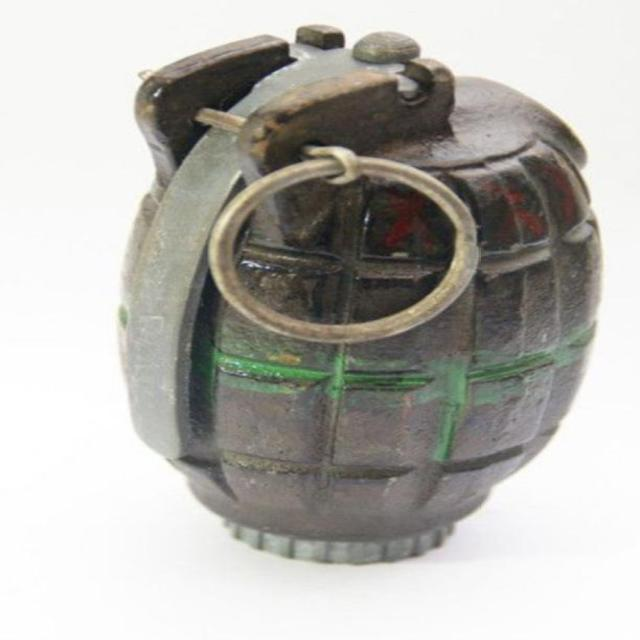grenade: (117, 25, 602, 566)
